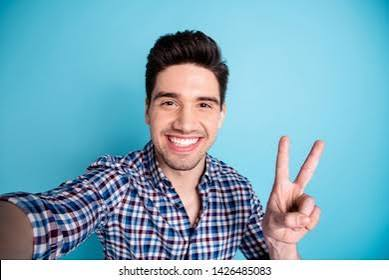peace_sign: (259, 130, 330, 248)
